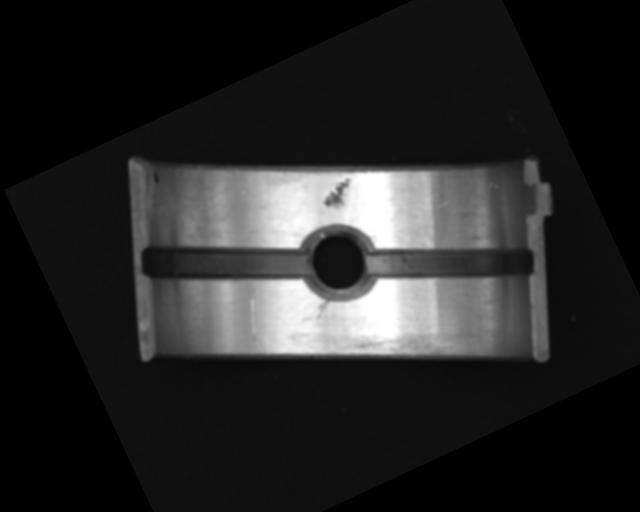blot: (150, 169, 161, 185)
bruise: (318, 176, 361, 214), (430, 198, 453, 214)
gap: (137, 191, 311, 335), (366, 194, 540, 333)
hole: (288, 213, 385, 313)
nick: (234, 286, 285, 358), (311, 298, 335, 319)
scratch: (322, 283, 488, 417)
